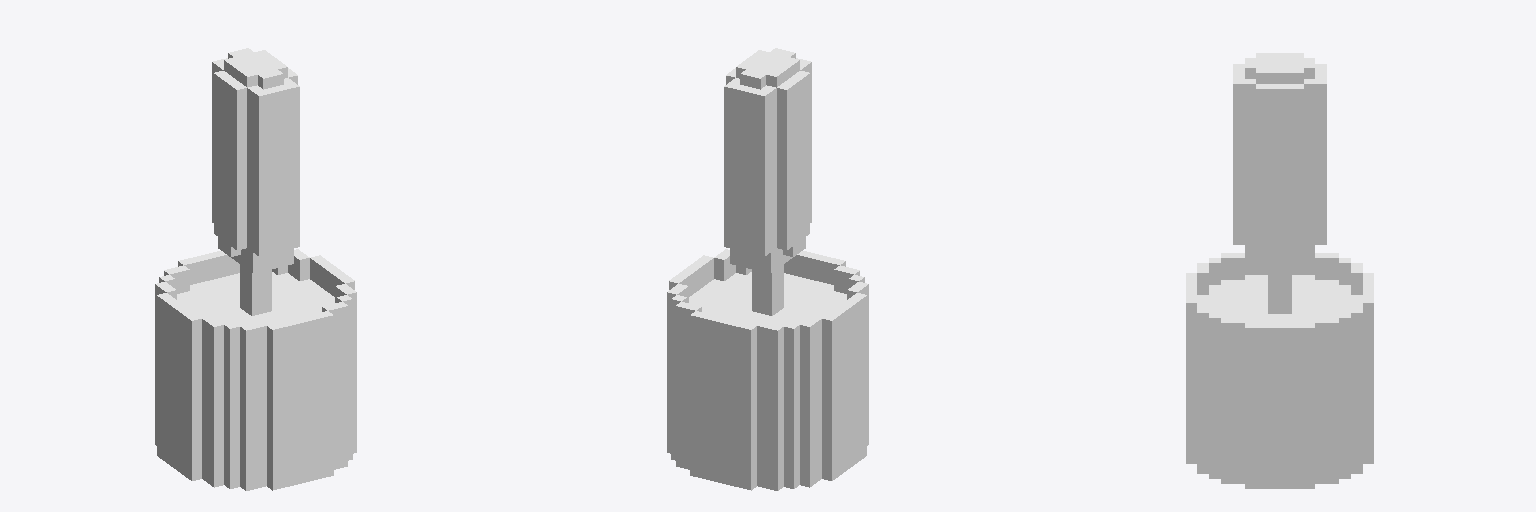
File: small-plant-2.obj
The picture shows the model from 3 angles: view 1: azimuth 30°, elevation 25°; view 2: azimuth 150°, elevation 25°; view 3: azimuth 270°, elevation 25°; orthographic projection.
Parts seen in each view (by area): view 1: object 1; view 2: object 1; view 3: object 1.
Part boxes in pixels (x1,y1,x2,y2): object 1: (155,48,356,490); object 1: (667,48,868,490); object 1: (1186,53,1373,488).
Size of the model in its own units: 1.6 by 3.6 by 1.6.